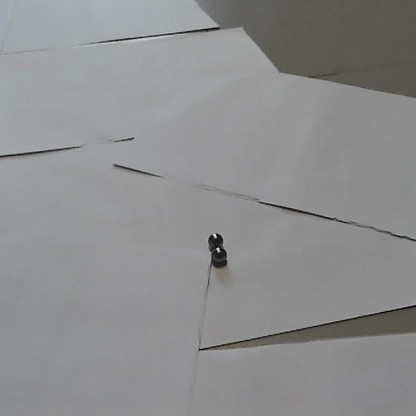ironball: (207, 245, 228, 265), (205, 230, 223, 248)
